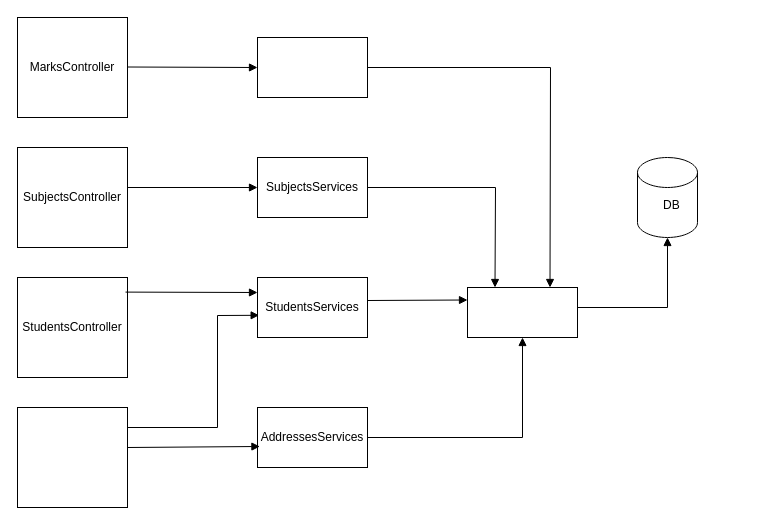
This 775x525 diagram has some shape labels left out. The centre of each missing label's shape, as x and y in pixels:
"AddressesController" belongs at (72,457).
"DbContext" belongs at (522,312).
"MarksServices" belongs at (312,67).
